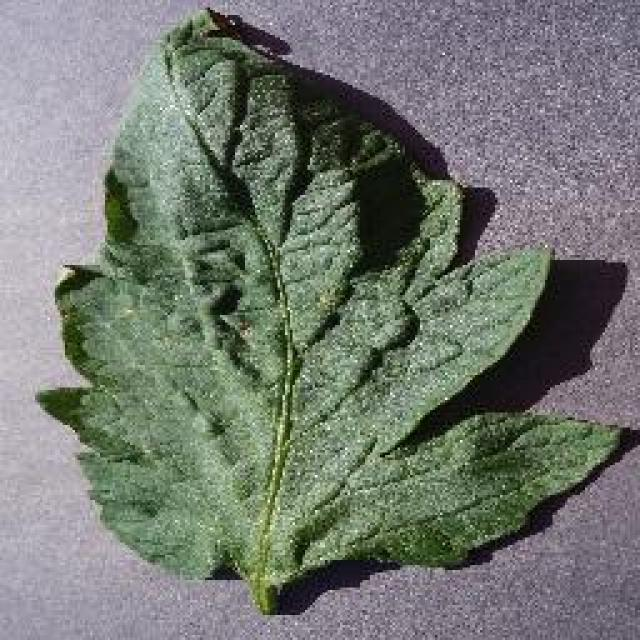Tomato Septoria spot leaf: (35, 6, 620, 594)
